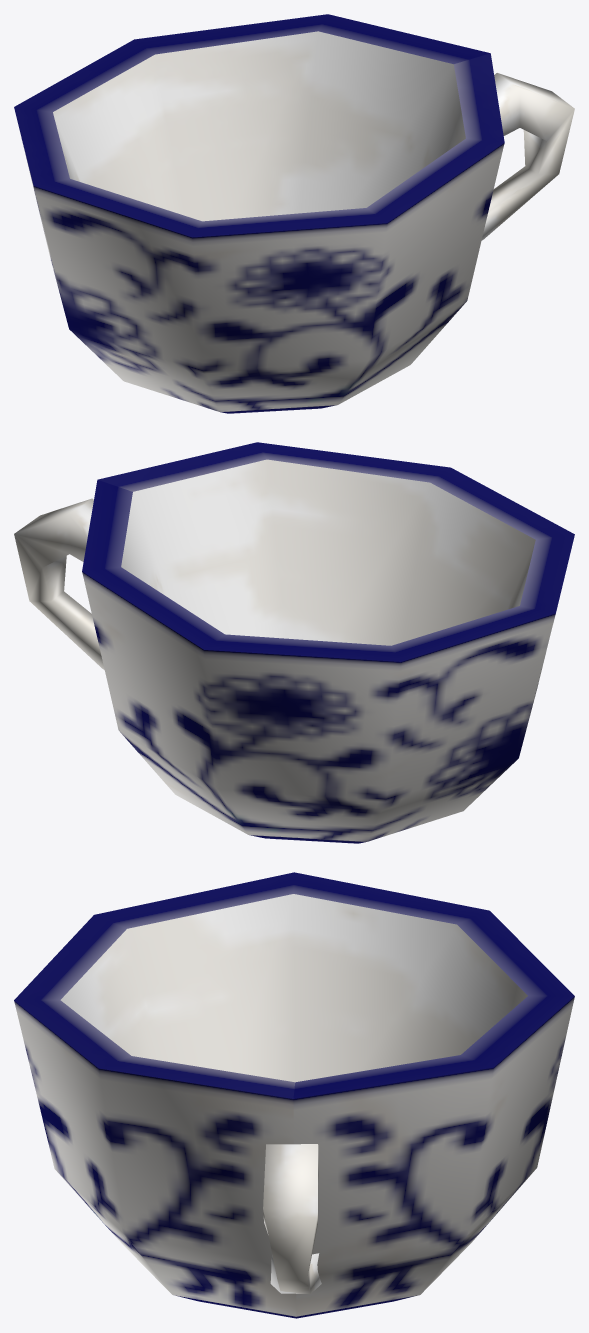
File: SM_PROP_cup_city_01.fbx
3 renders of one model, top to bottom at view 1: azimuth 30°, elevation 25°; view 2: azimuth 150°, elevation 25°; view 3: azimuth 270°, elevation 25°, orthographic. The views are drawn at different scales.
Parts seen in each view (by area): view 1: SM_PROP_cup_city_01; view 2: SM_PROP_cup_city_01; view 3: SM_PROP_cup_city_01.
Boxes of the visible parts, left/top/right/bottom form: SM_PROP_cup_city_01: left=14, top=14, right=574, bottom=413; SM_PROP_cup_city_01: left=14, top=442, right=574, bottom=843; SM_PROP_cup_city_01: left=14, top=872, right=574, bottom=1318.
Bounding box in the file's own units: 15.96 × 7.38 × 13.04.
